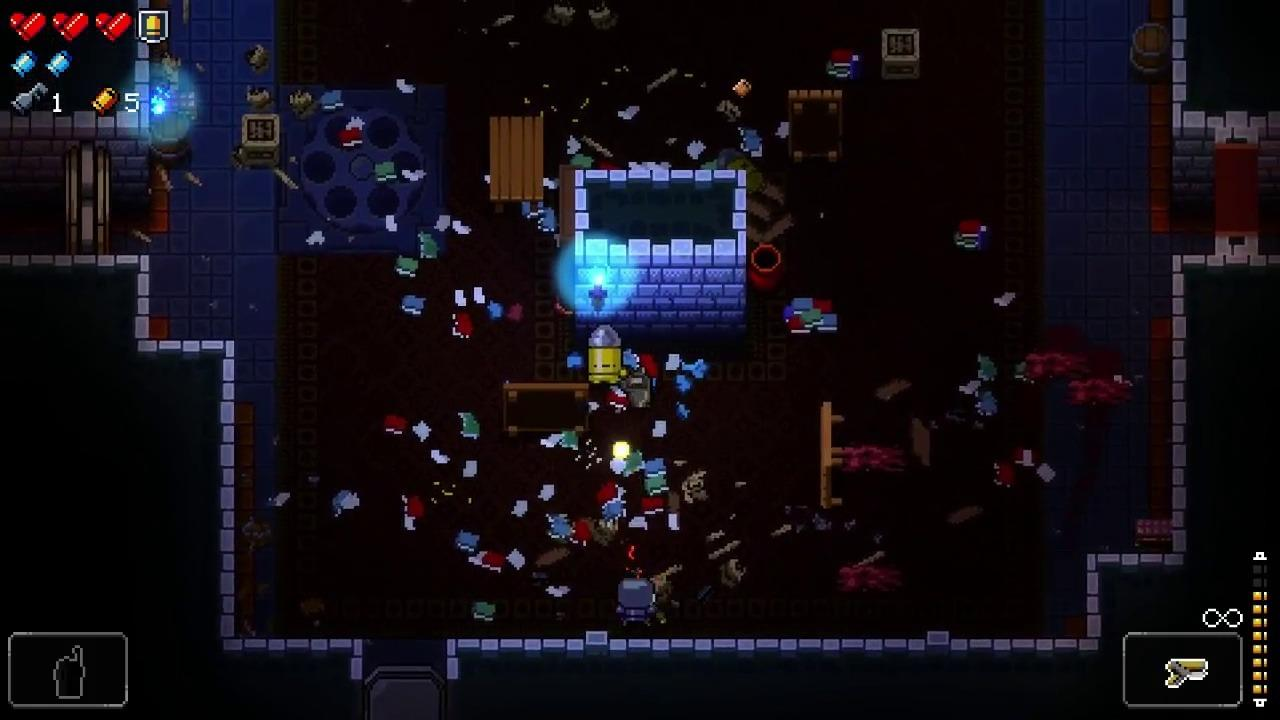bullet_kin: (587, 323, 624, 387)
locked_door: (63, 137, 110, 255), (362, 664, 447, 720)
player: (616, 578, 656, 631)
table: (489, 116, 545, 214), (503, 383, 590, 438), (788, 91, 844, 169), (818, 401, 845, 510)
teleporter: (277, 86, 448, 258)
wall: (575, 170, 748, 340)
